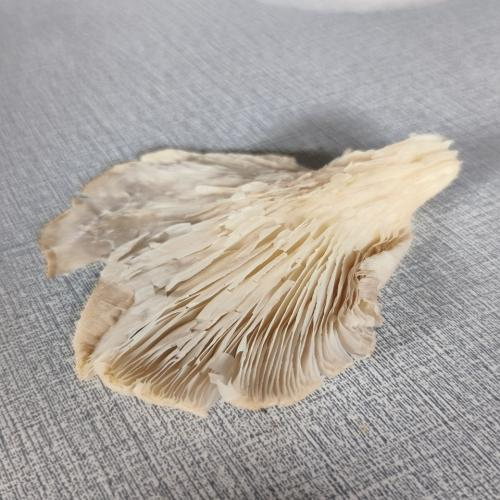Oyster Mushroom: (31, 115, 486, 432)
